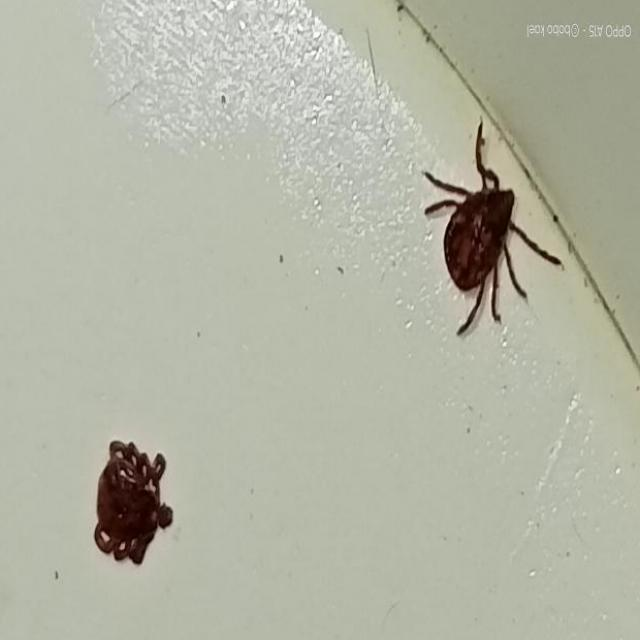Rhipicephalus Sanguineus-M: (423, 122, 561, 334), (93, 437, 174, 566)
